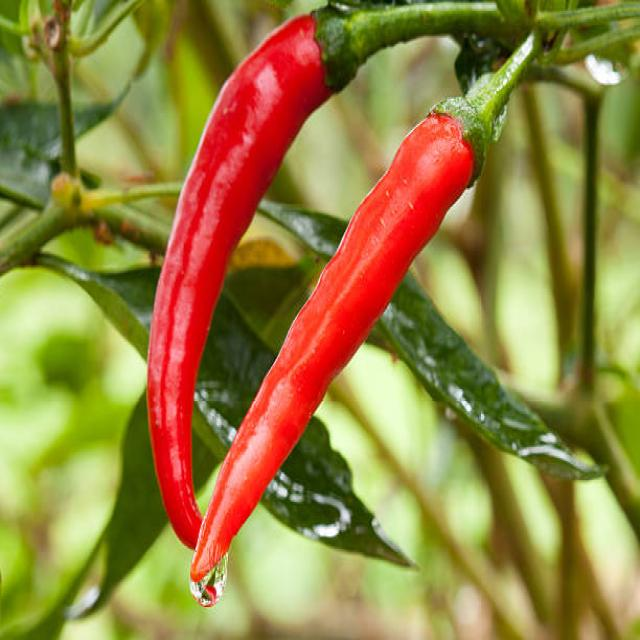Ripe: (191, 114, 474, 601), (149, 15, 331, 547)
